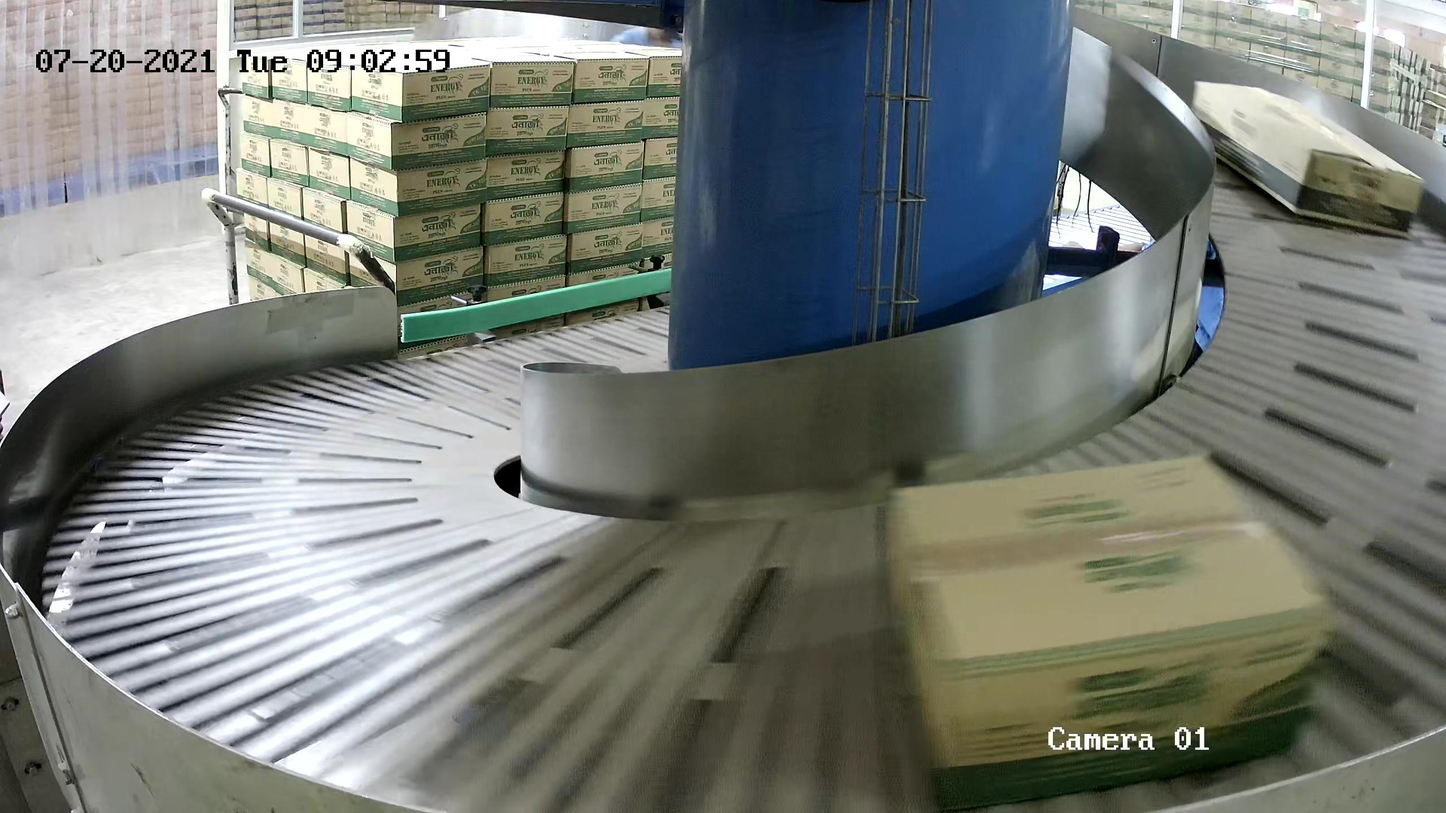Box: (881, 446, 1332, 813), (1189, 79, 1426, 239)
